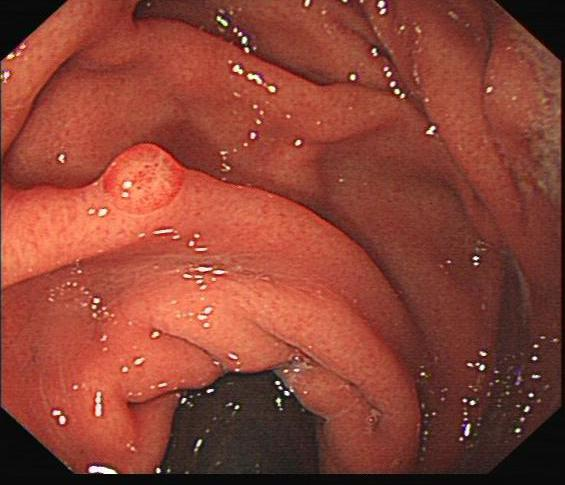Polyp: (83, 132, 198, 231)
